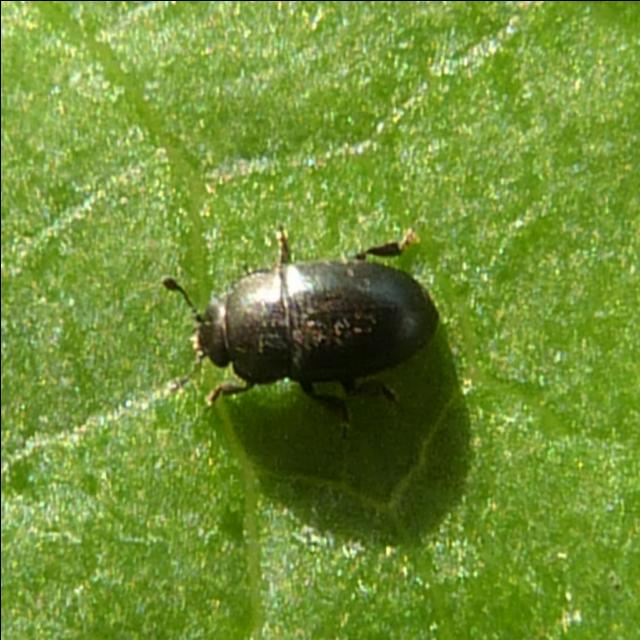pollen_beetle: (143, 225, 453, 427)
